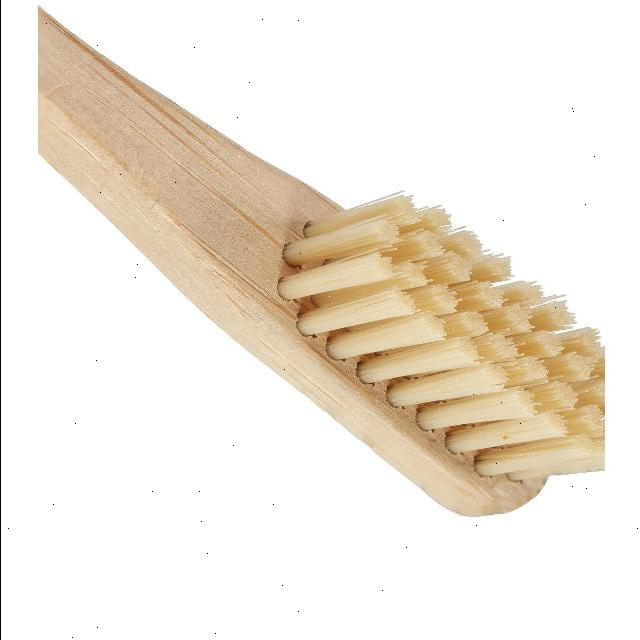toothbrush: (36, 0, 604, 578)
